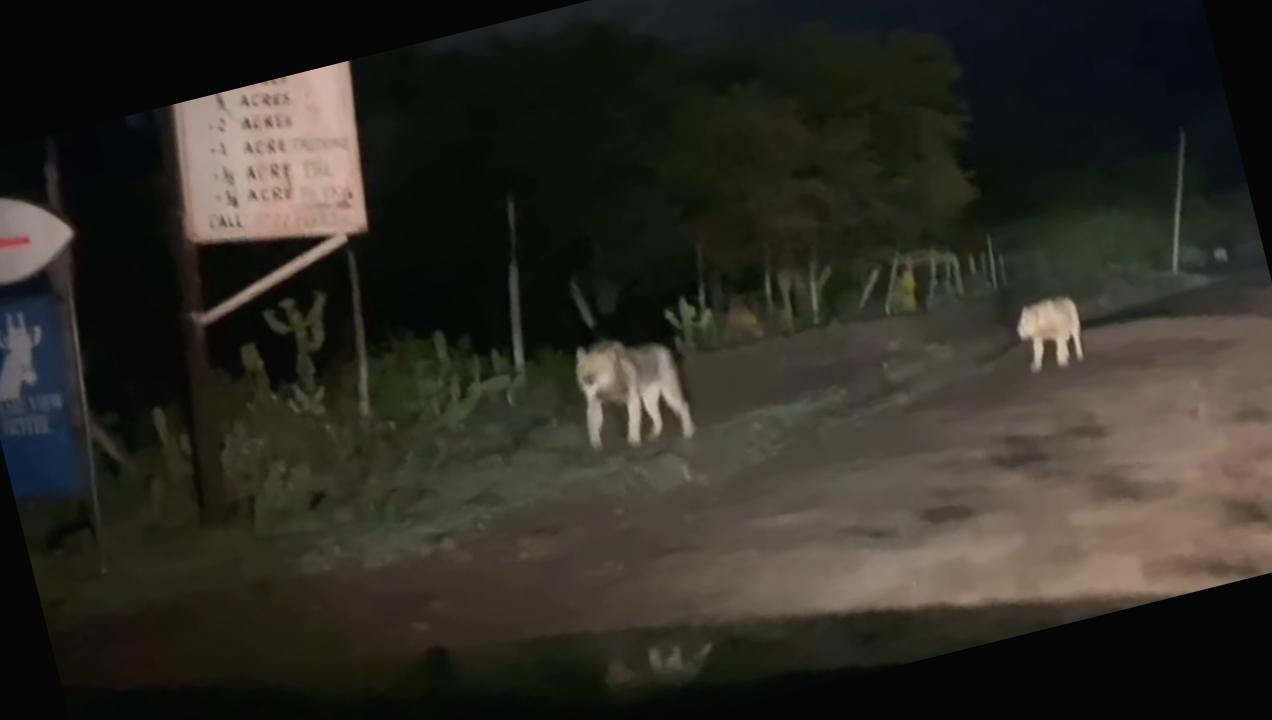lions: (550, 313, 710, 475), (994, 272, 1108, 416)
